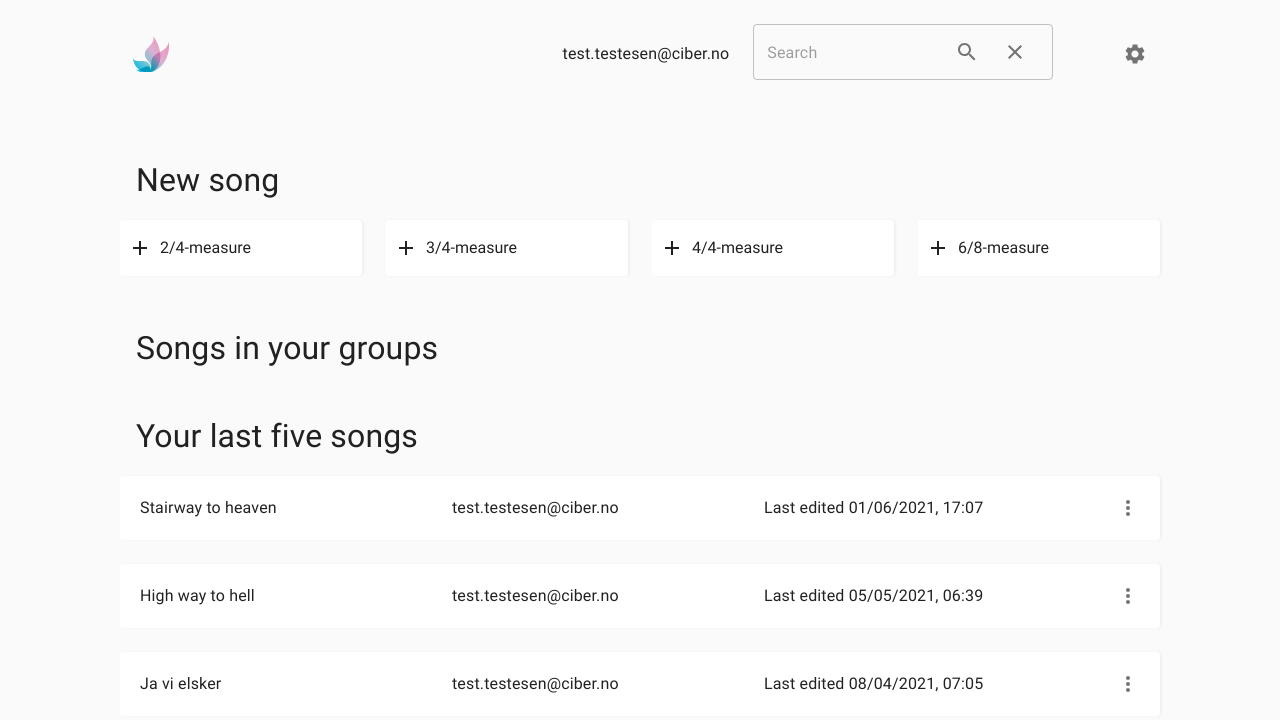
Scenario: Dashboard › Should show song metadata
Click the button named "Song menu" next to "01/06/2021, 17:07": click(1128, 508) [1104,484,1152,532]
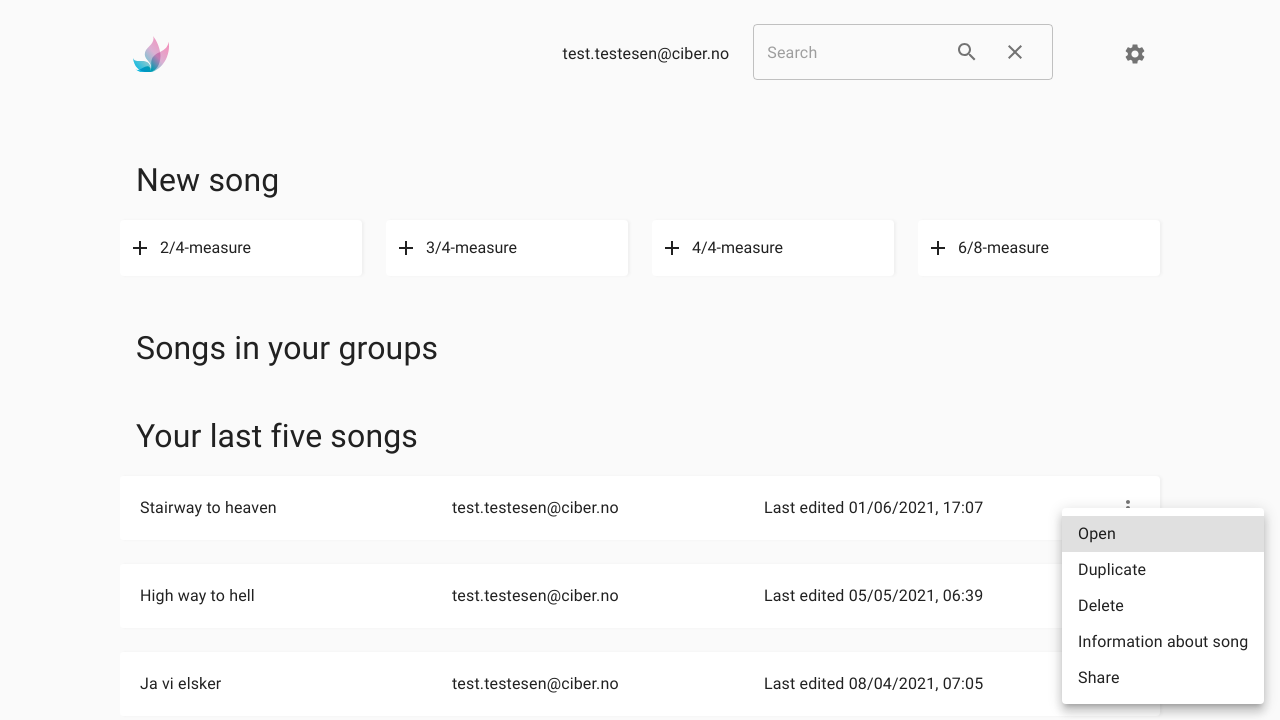
Click the menu item "Information about song": click(1163, 642) [1078,632,1248,651]
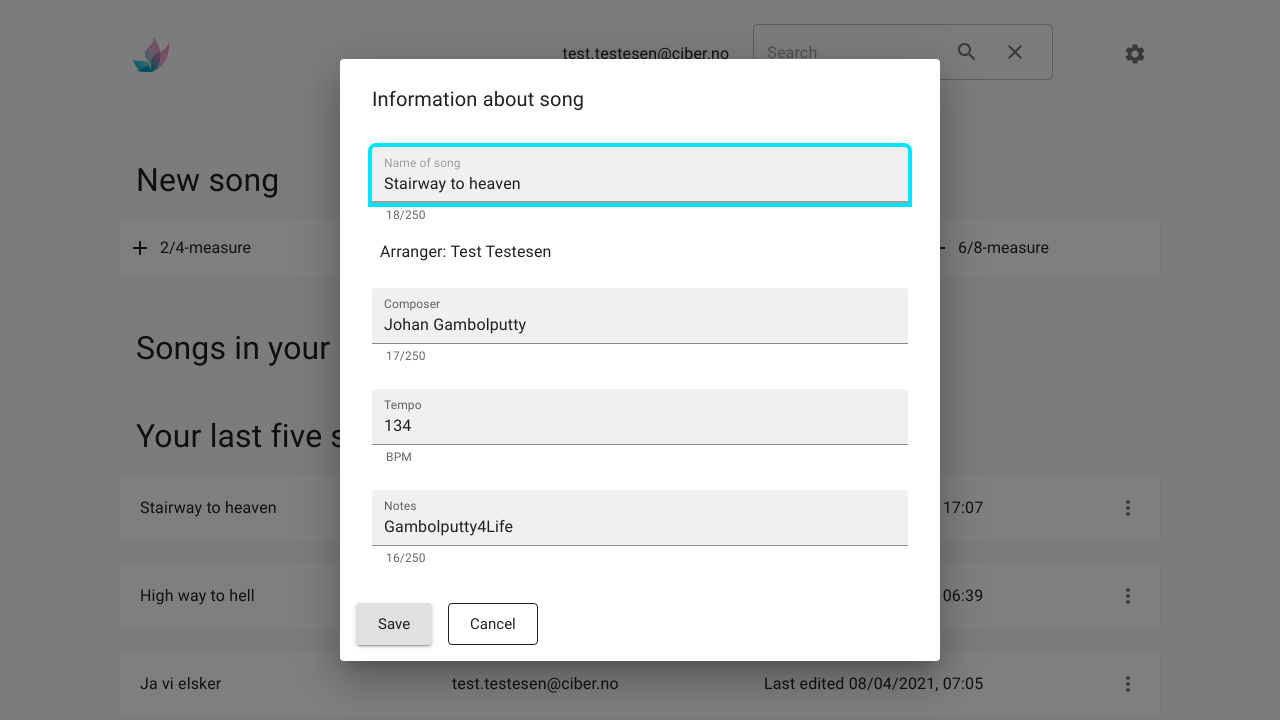
Expected: the heading "Information about song" is shown, [372,87,584,111]
Expected: the field labelled "Name of song" holds "Stairway to heaven", [372,147,908,203]
Expected: the field labelled "Composer" holds "Johan Gambolputty", [372,288,908,344]
Click the button "Cancel": click(493, 624) [448,603,538,645]
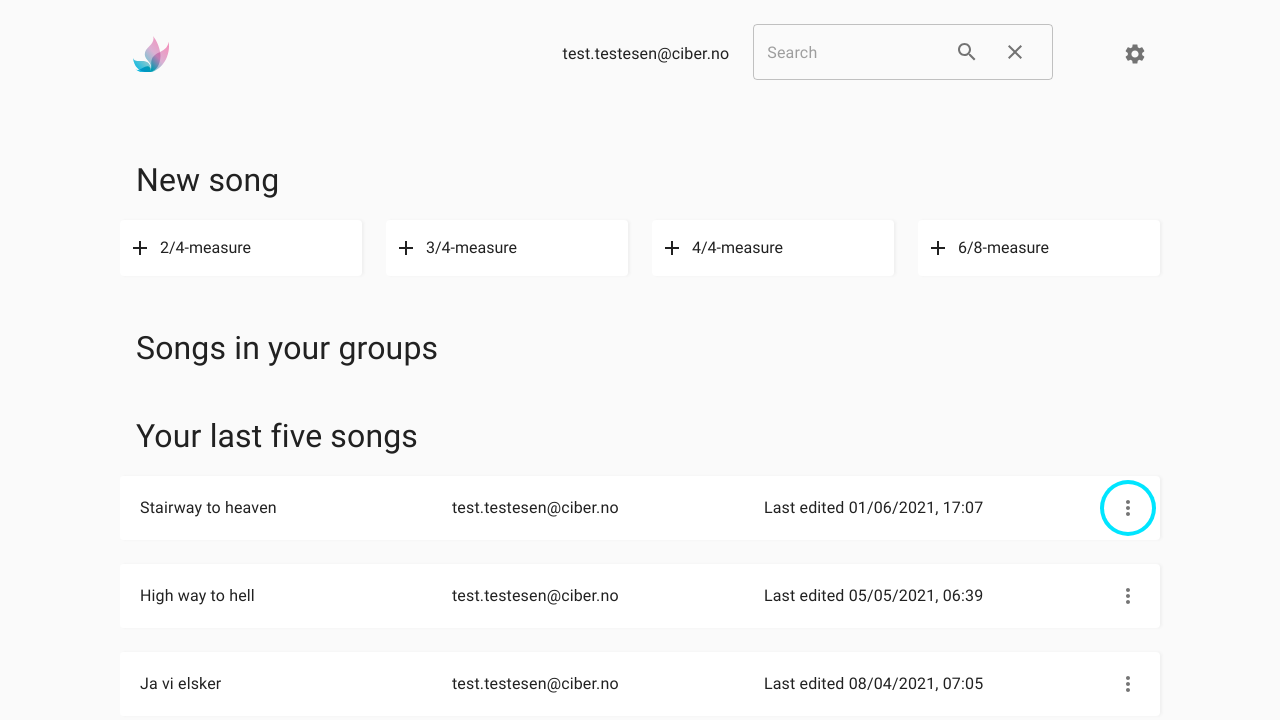
Click the button named "Song menu" next to "05/05/2021, 06:39": click(1128, 596) [1104,572,1152,620]
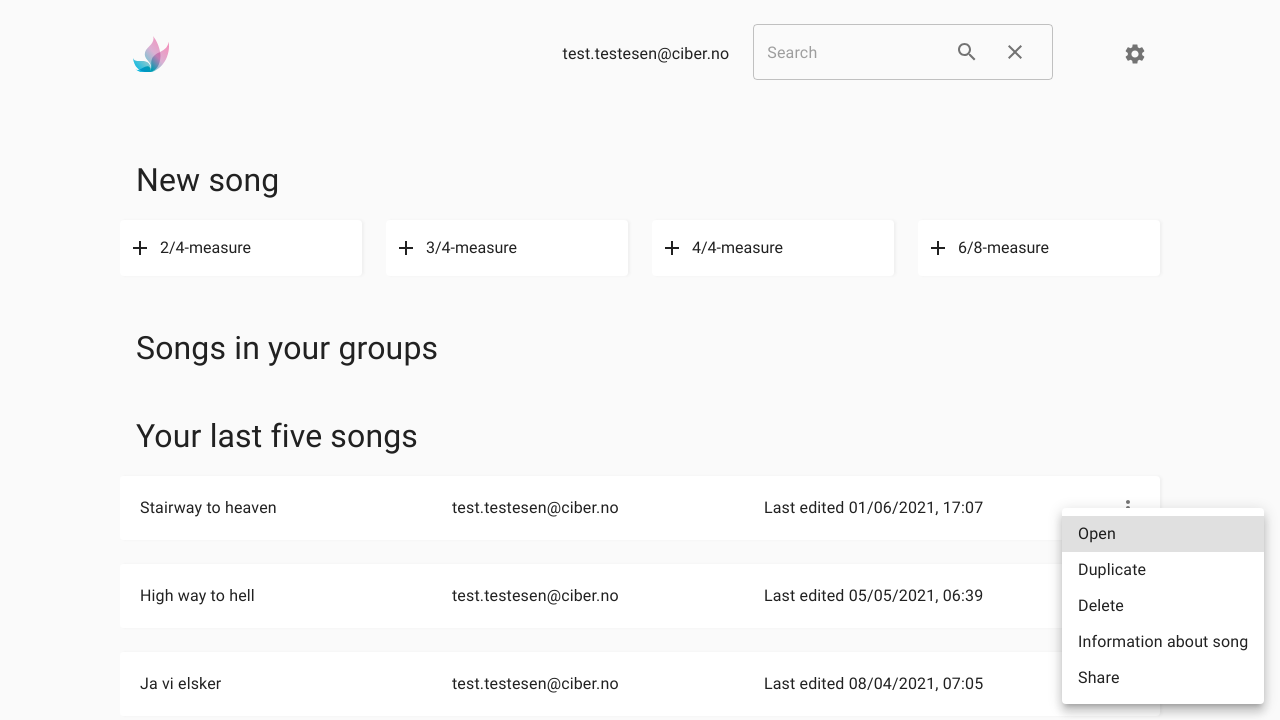
Click the menu item "Information about song": click(1163, 642) [1078,632,1248,651]
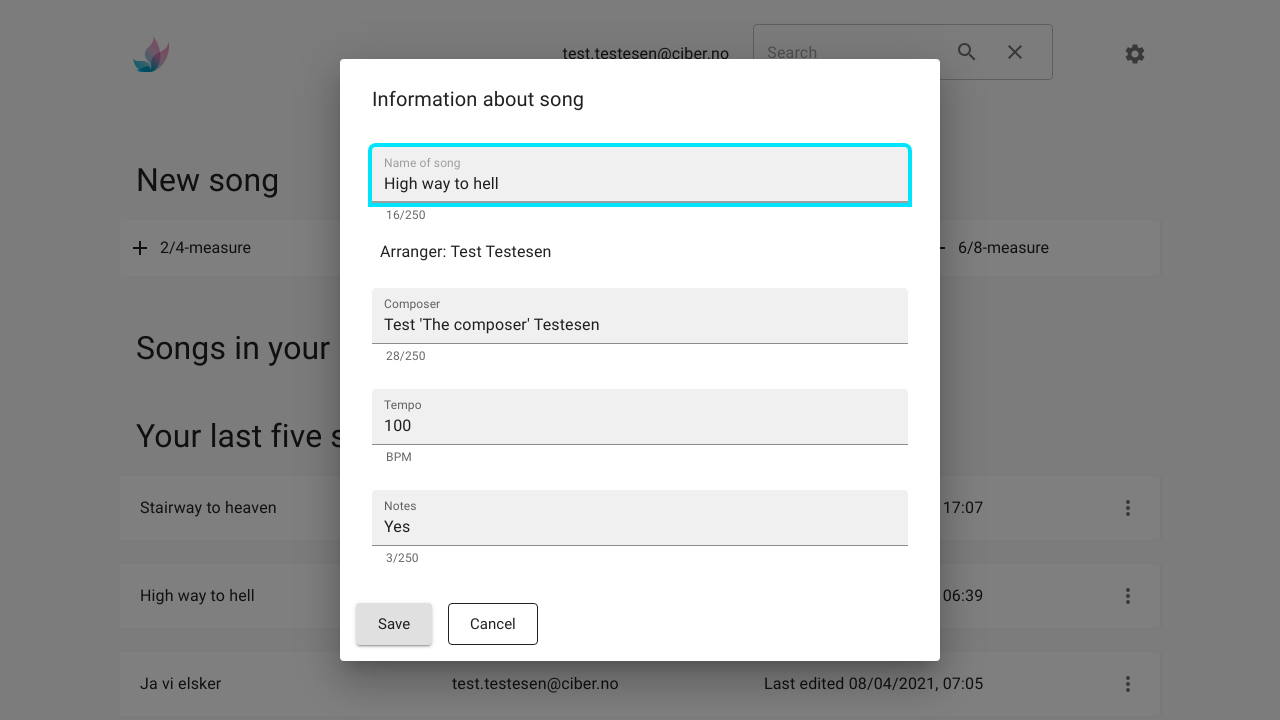
Expected: the field labelled "Name of song" is shown, [372,147,908,203]
Expected: the number field labelled "Tempo" holds "100", [372,389,908,445]
Expected: the text box labelled "Notes" holds "Yes", [384,515,896,538]
